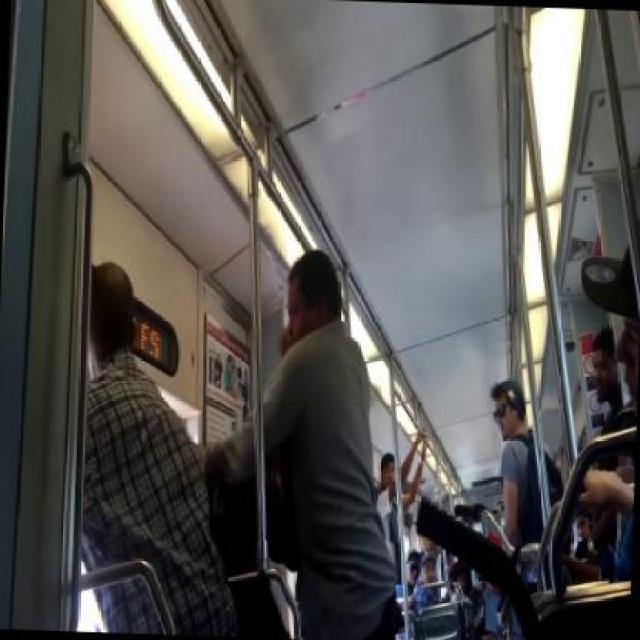fight: (78, 238, 410, 638)
non-fight: (482, 373, 570, 532)
